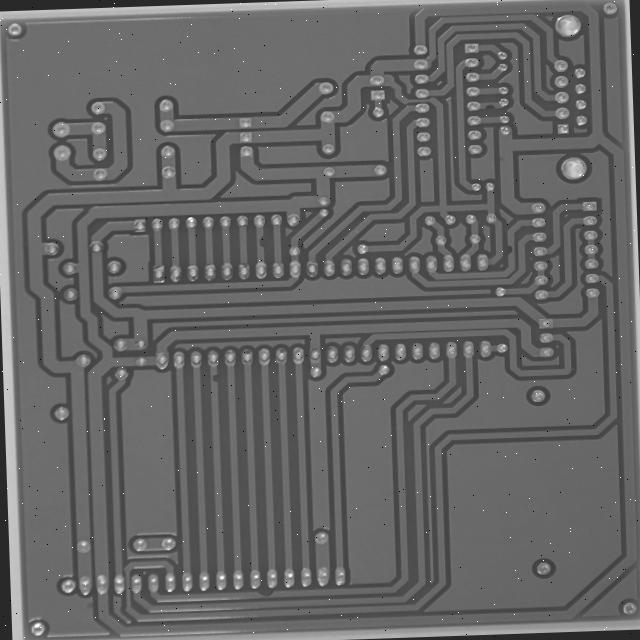mouse_bite: (299, 578, 326, 593), (298, 178, 320, 196), (242, 333, 260, 351), (572, 25, 589, 41), (596, 188, 613, 203)
